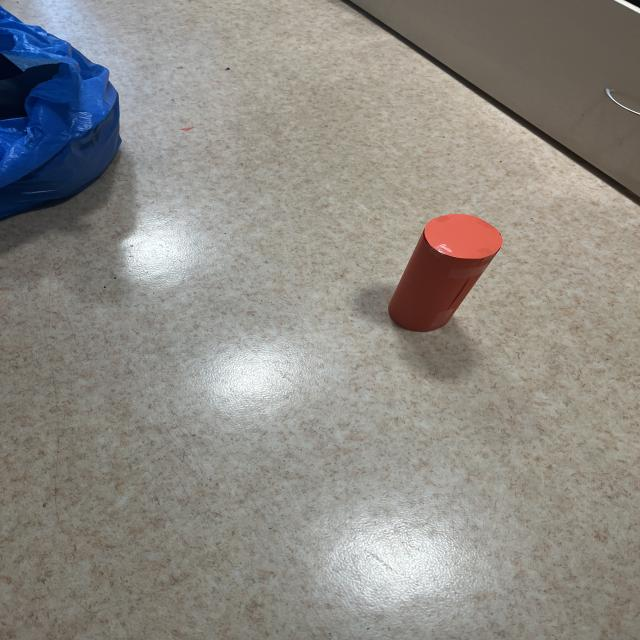przeszkoda: (388, 214, 502, 332)
